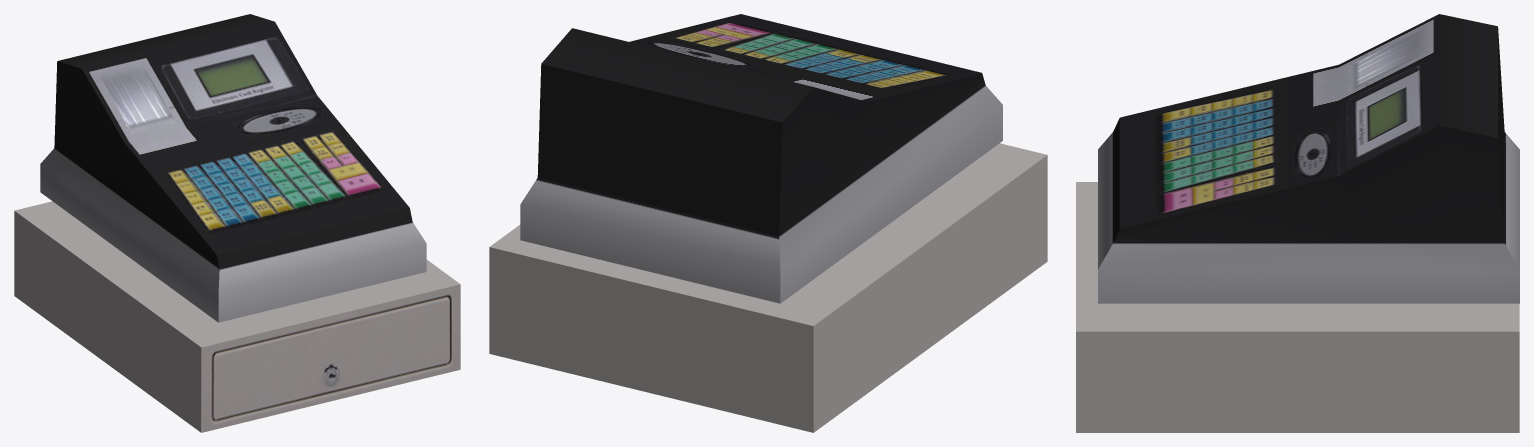
The model's file is cash register.fbx.
3 views of the same model, side by side, from view 1: azimuth 30°, elevation 25°; view 2: azimuth 150°, elevation 25°; view 3: azimuth 270°, elevation 25° (orthographic). The views are drawn at different scales.
Parts seen in each view (by area): view 1: pCube1; view 2: pCube1; view 3: pCube1.
Part boxes in pixels (x1,y1,x2,y2): pCube1: [14, 14, 460, 432]; pCube1: [489, 14, 1047, 432]; pCube1: [1076, 14, 1519, 432].
Size of the model in its own units: 4 by 3.59 by 5.
